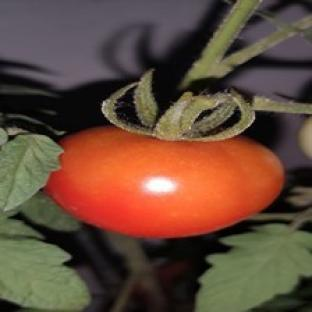Tomato: (46, 127, 284, 238)
